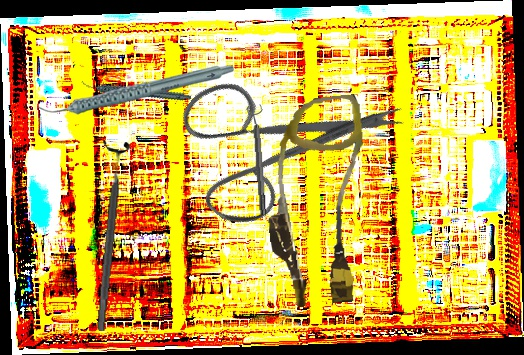Cannula: (256, 93, 380, 310)
Fixation Ring: (85, 140, 133, 332), (246, 103, 271, 216)
Handpiece: (38, 63, 234, 115), (80, 58, 192, 123)
Iris Scissors: (145, 2, 412, 270)
